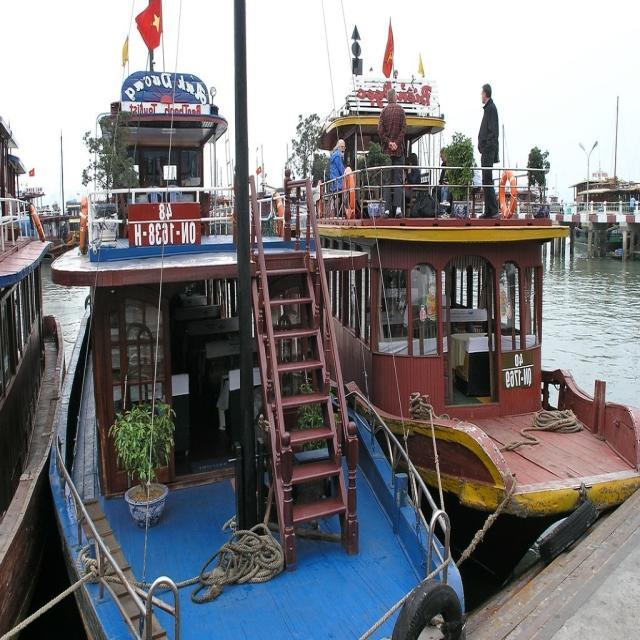boat: (50, 186, 464, 640), (333, 112, 640, 514)
